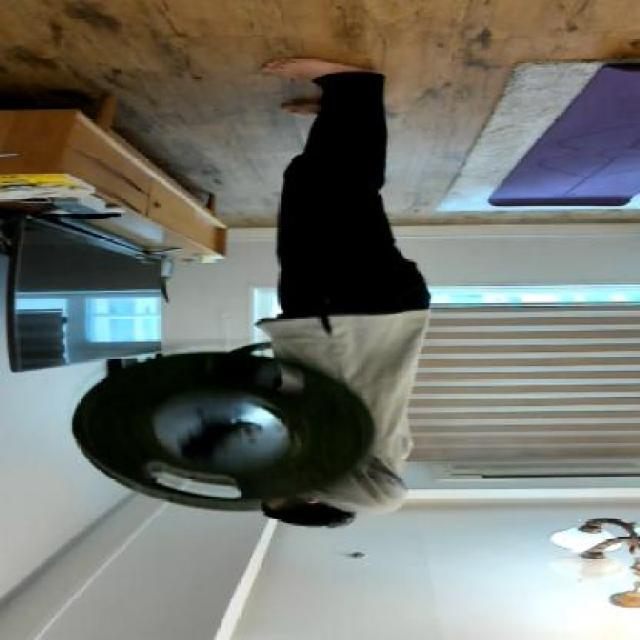Barbell: (166, 425, 237, 470)
